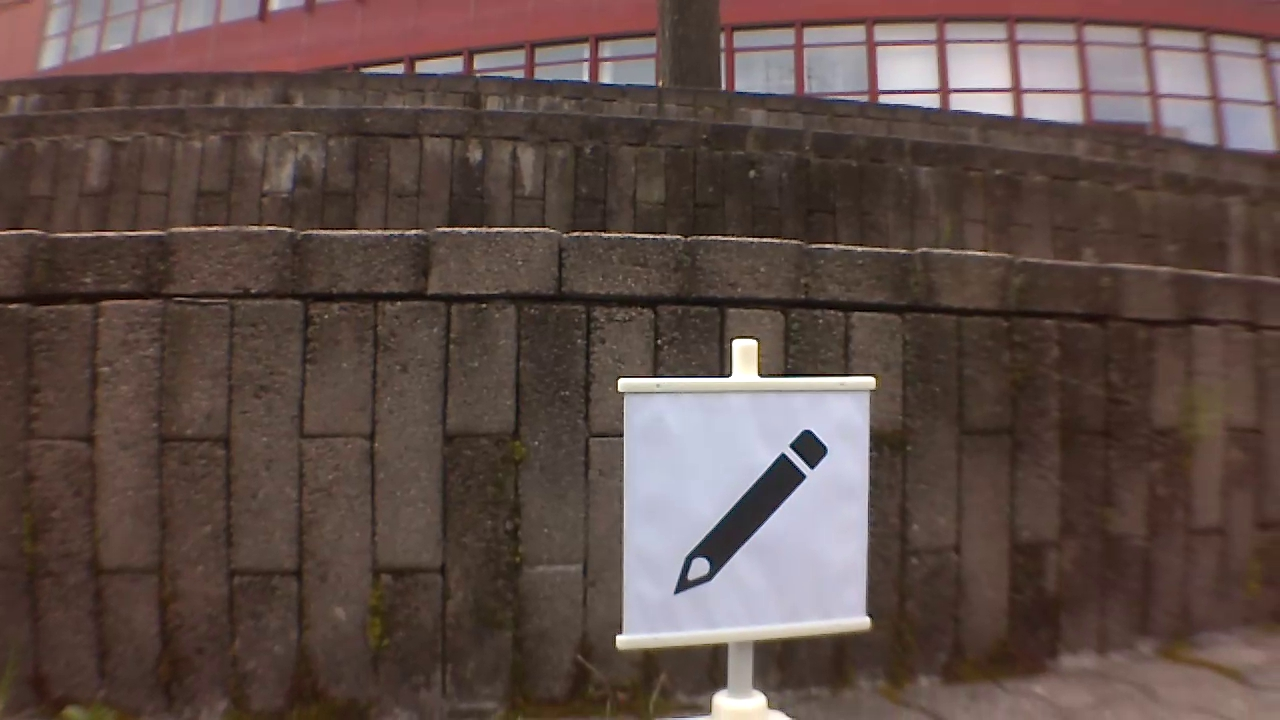pencil: (680, 420, 835, 591)
